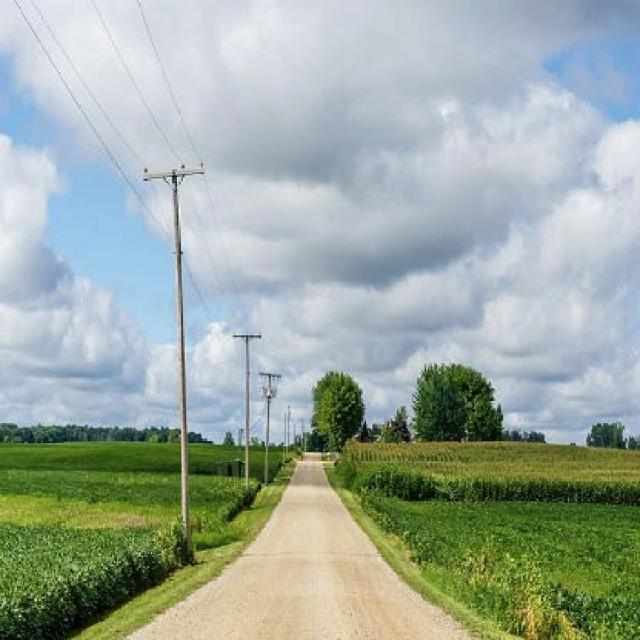pole: (171, 168, 194, 568)
transformer: (142, 159, 203, 180)
wire: (12, 0, 212, 315), (89, 0, 223, 289), (28, 0, 148, 170), (135, 0, 202, 161)
